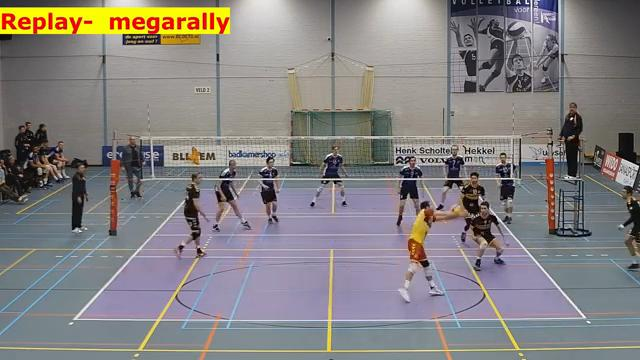ricezione: (393, 197, 468, 299)
